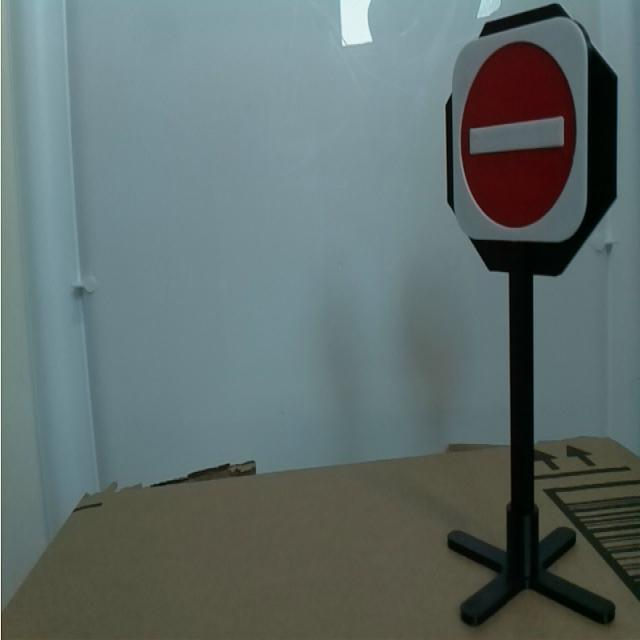sign_noentry: (449, 25, 596, 253)
